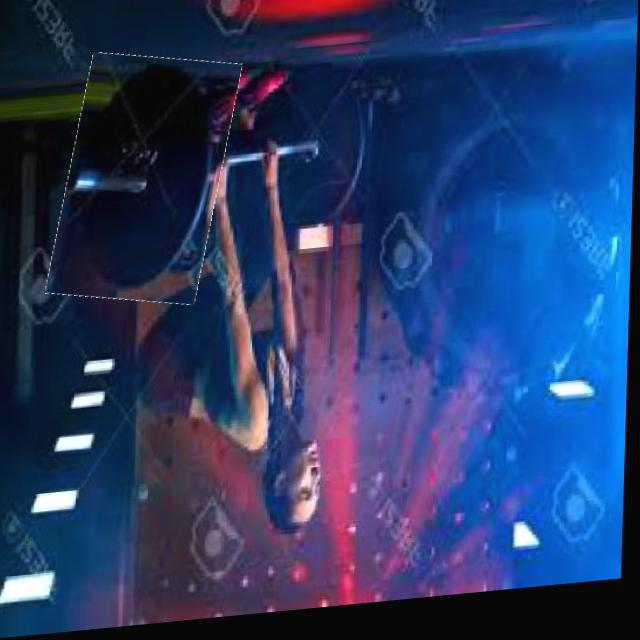barbell: (58, 50, 235, 314)
